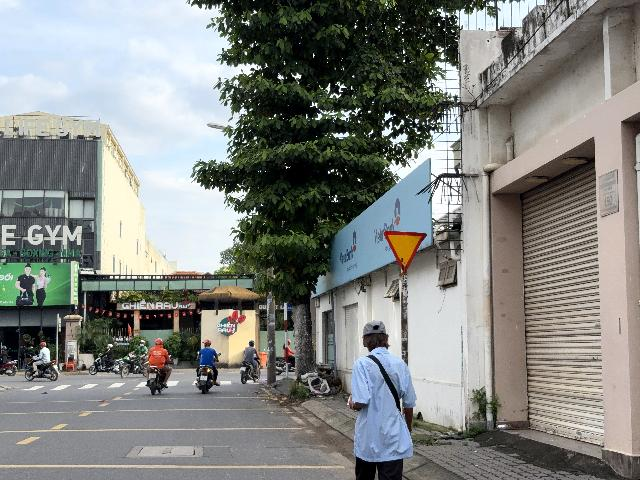giao-nhau-voi-duong-uu-tien: (384, 231, 428, 273)
